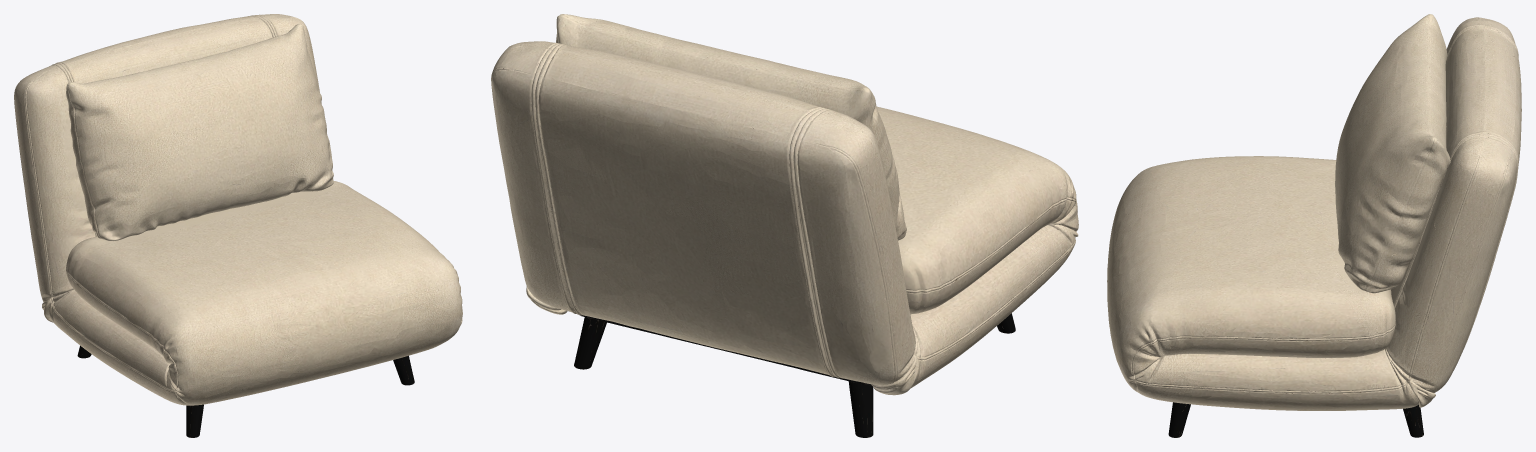
Rendered from bohus-313245.glb.
The picture shows the model from 3 angles, left to right: view 1: azimuth 30°, elevation 25°; view 2: azimuth 150°, elevation 25°; view 3: azimuth 270°, elevation 25°; orthographic projection. The views are drawn at different scales.
Parts seen in each view (by area): view 1: mesh1; view 2: mesh1; view 3: mesh1.
Part boxes in pixels (x1,y1,x2,y2): mesh1: (14, 14, 462, 437); mesh1: (491, 14, 1078, 437); mesh1: (1107, 14, 1521, 437).
Size of the model in its own units: 0.5317 by 0.4655 by 0.5798.
1 material, 1 textured.
